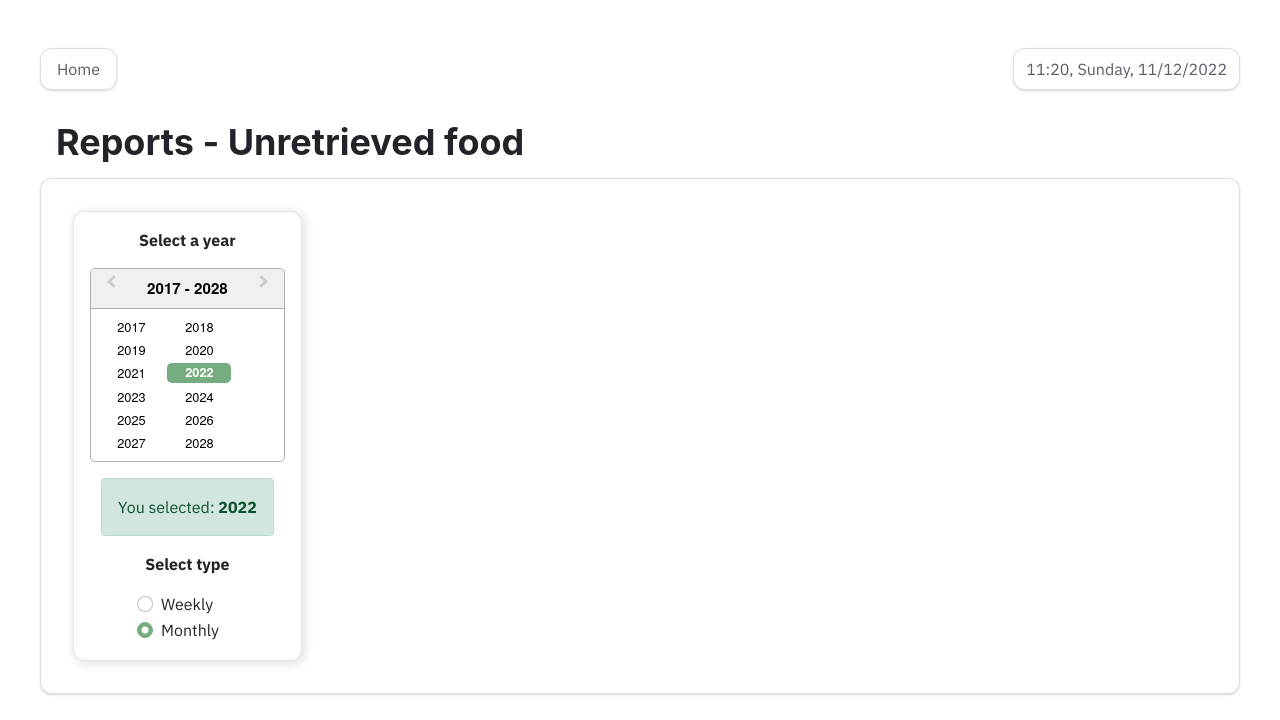
Manager Reports › renders reports page
expect the text "Reports - Unretrieved food" is shown: met, box top-left (56, 122), bottom-right (524, 162)
expect the text "Select a year" is shown: met, box top-left (139, 230), bottom-right (236, 250)
Step 1. Click the text "2018" → (199, 326), box top-left (185, 317), bottom-right (214, 336)
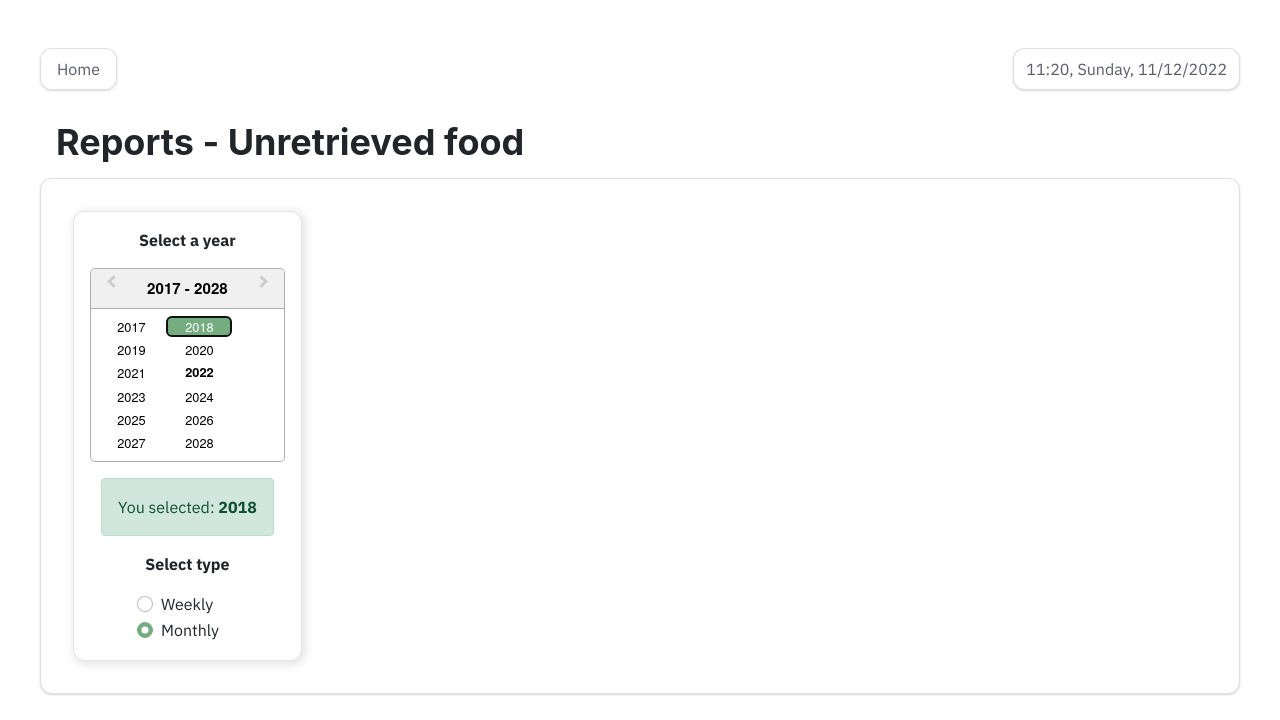
expect the text "You selected: 2018" is shown: met, box top-left (101, 478), bottom-right (274, 536)
Step 2. Click the radio button with aria-label "weekly-radio" → (145, 604), box top-left (137, 596), bottom-right (153, 612)
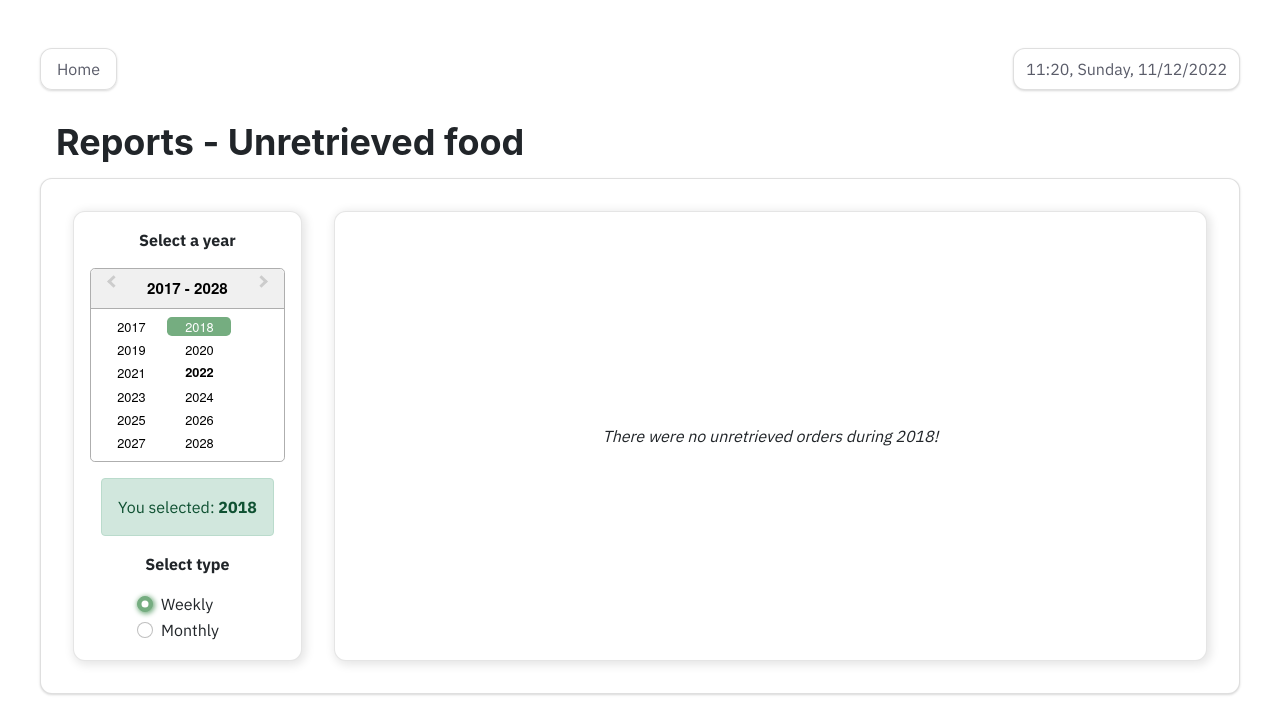
Step 3. Click the radio button with aria-label "monthly-radio" → (145, 630), box top-left (137, 622), bottom-right (153, 638)
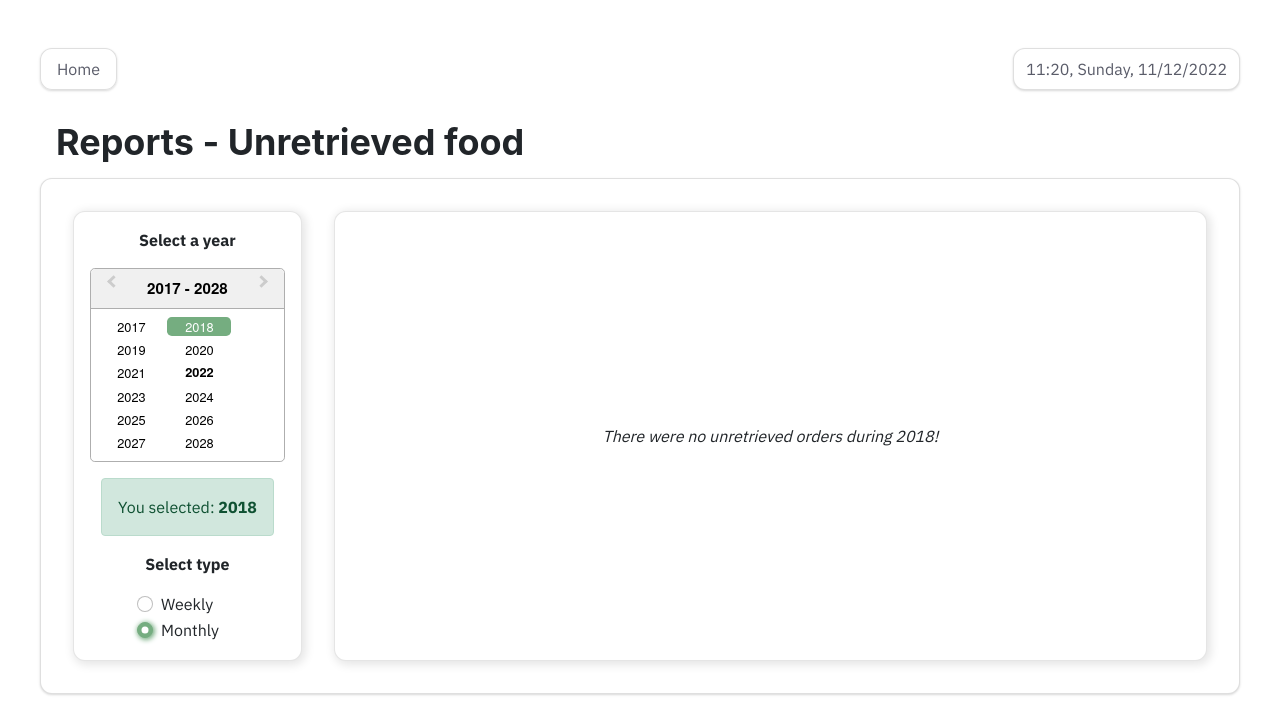
expect the text "You selected: 2018" is shown: met, box top-left (101, 478), bottom-right (274, 536)
Step 4. Click the text "2024" → (199, 396), box top-left (185, 387), bottom-right (214, 406)
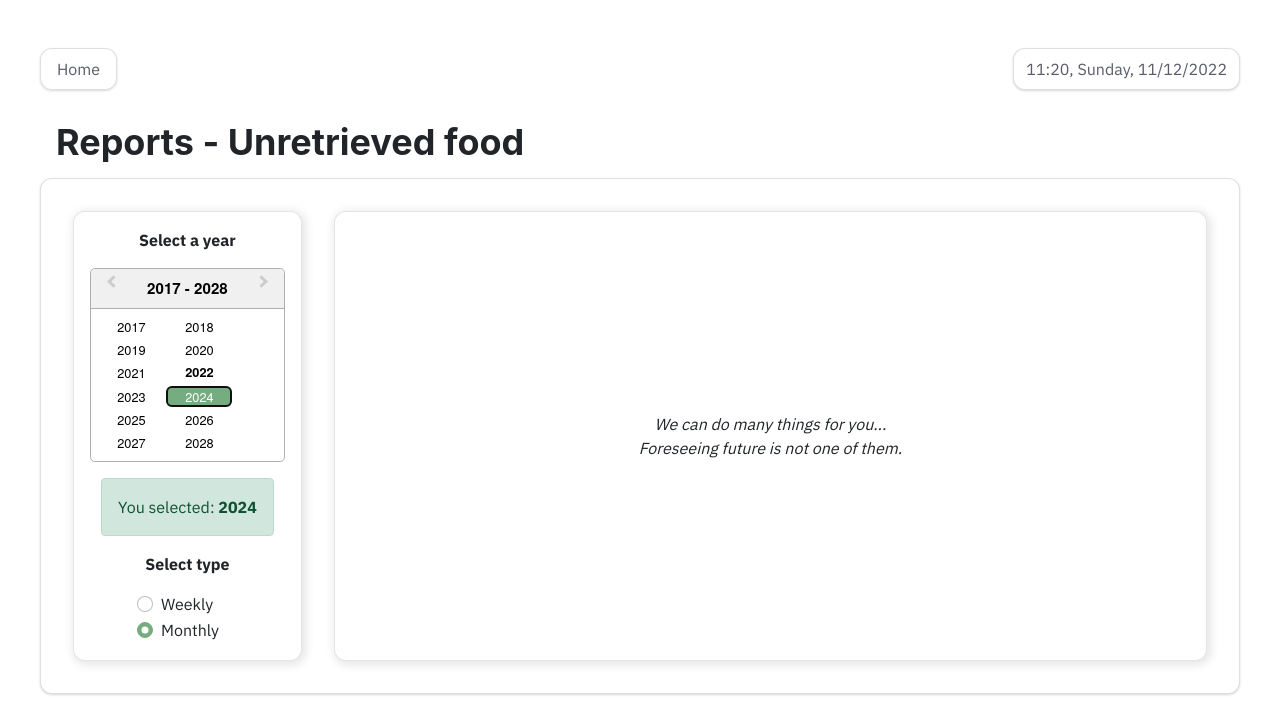
expect the text "2024" next to "You selected:" is shown: met, box top-left (218, 497), bottom-right (257, 517)
